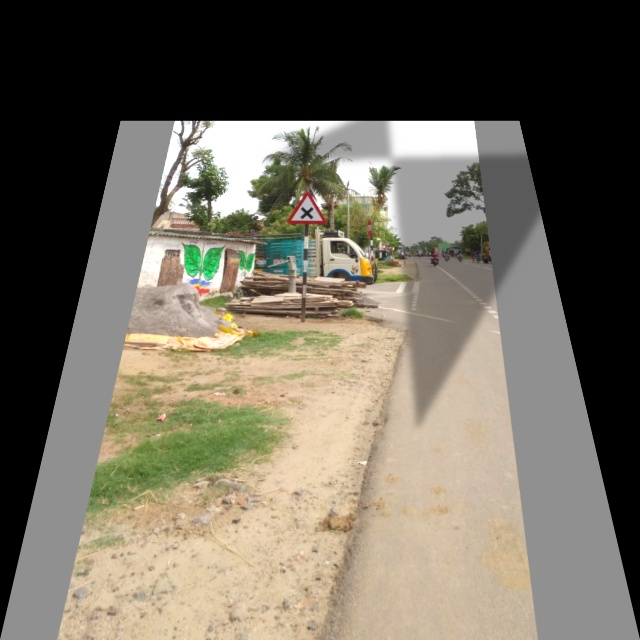Cross_Road: (284, 188, 329, 226)
